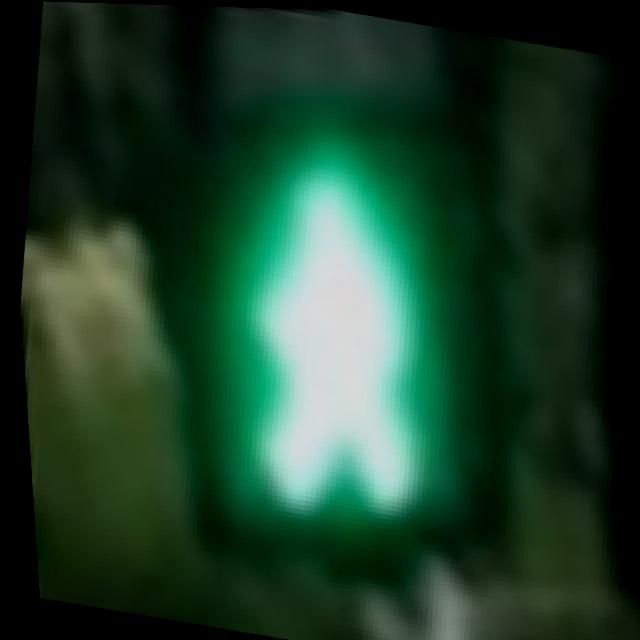green_light: (131, 83, 561, 589)
